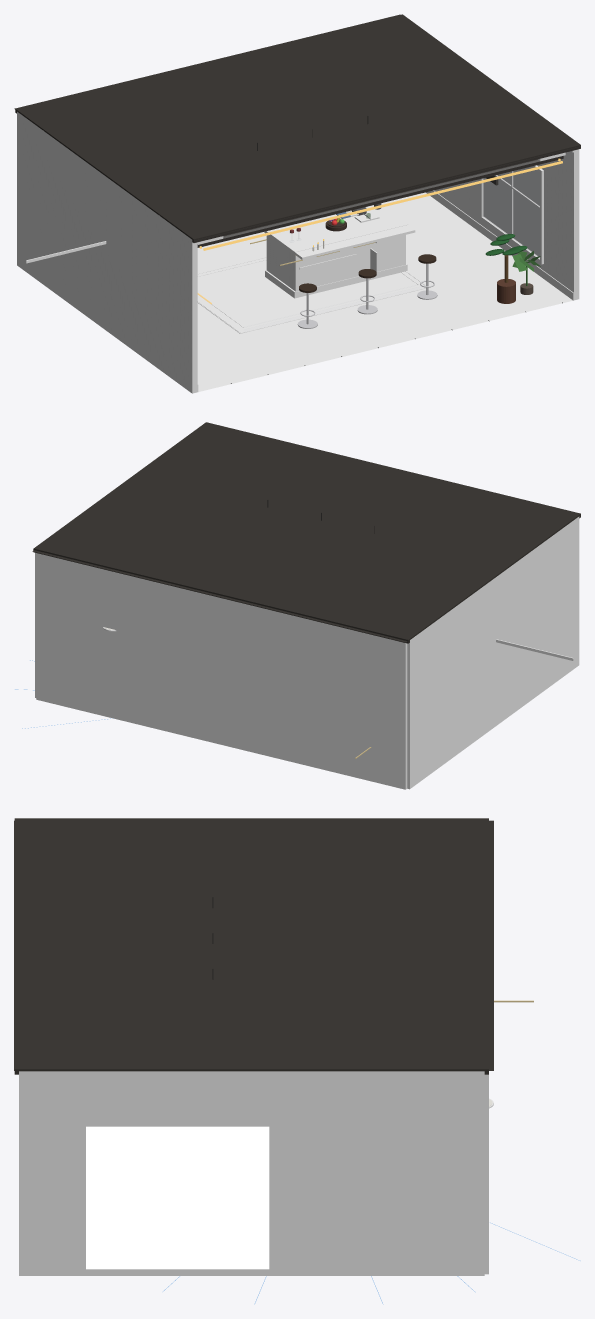
Rendered from kitchen.glb.
The picture shows the model from 3 angles, top to bottom: view 1: azimuth 30°, elevation 25°; view 2: azimuth 150°, elevation 25°; view 3: azimuth 270°, elevation 25°; orthographic projection. The views are drawn at different scales.
Visible parts, largest first — view 1: Cube.136, Cube.114, Plane.009, Cube.115, Cube.156, Cube.007, Cube.169, Cube.008, Cube.221, Cube.222, Cube.009, Cube.130 (+4 smaller); view 2: Cube.136, Cube.113, Cube.114, Plane; view 3: Cube.136, Cube.115, Cube.168, Plane, Cube.113.
Boxes of the visible parts, bbox=[...] form: Cube.136: bbox=[15, 14, 580, 242]; Cube.114: bbox=[17, 111, 197, 393]; Plane.009: bbox=[197, 192, 571, 390]; Cube.115: bbox=[434, 149, 579, 300]; Cube.156: bbox=[197, 255, 432, 333]; Cube.007: bbox=[266, 235, 405, 291]; Cube.169: bbox=[483, 167, 539, 257]; Cube.008: bbox=[264, 205, 407, 254]; Cube.221: bbox=[197, 156, 563, 247]; Cube.222: bbox=[203, 161, 562, 250]; Cube.009: bbox=[295, 225, 415, 259]; Cube.130: bbox=[426, 190, 573, 300]; Cube.136: bbox=[33, 422, 580, 643]; Cube.113: bbox=[36, 553, 407, 789]; Cube.114: bbox=[407, 516, 579, 789]; Plane: bbox=[32, 550, 407, 642]; Cube.136: bbox=[14, 818, 488, 1074]; Cube.115: bbox=[19, 1071, 484, 1275]; Cube.168: bbox=[86, 1126, 269, 1269]; Plane: bbox=[14, 820, 493, 1070]; Cube.113: bbox=[484, 1074, 488, 1274].
Size of the model in its own units: 11.12 by 3.41 by 8.03.
